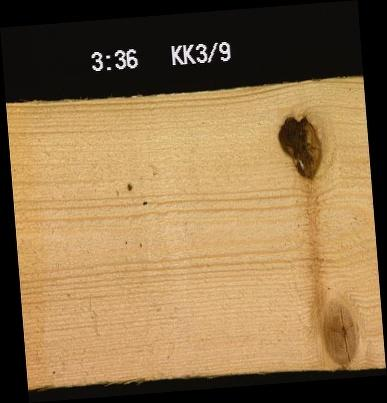edge_knot: (319, 300, 358, 366)
small_knot: (124, 180, 133, 191)
